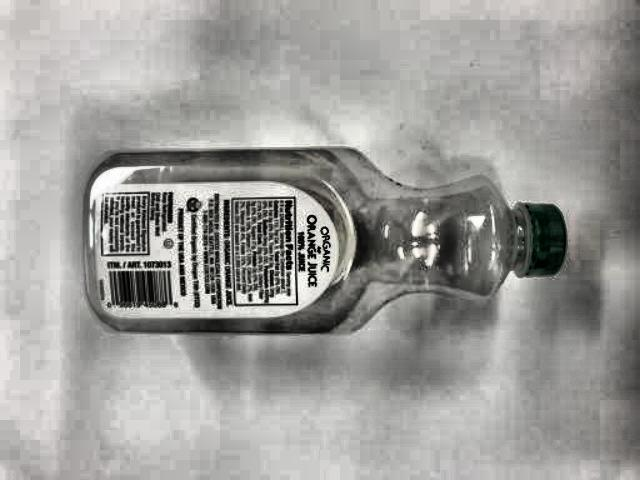Bottles: (65, 133, 578, 362)
